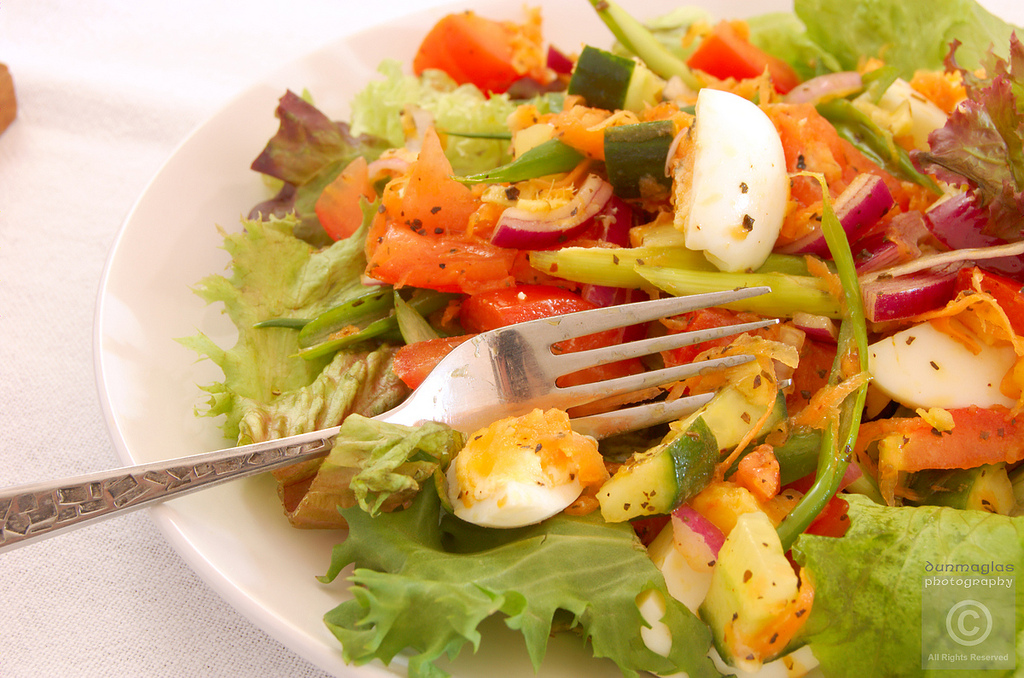chopped lettuce: (220, 245, 573, 653), (517, 500, 1024, 668), (790, 8, 1024, 198)
